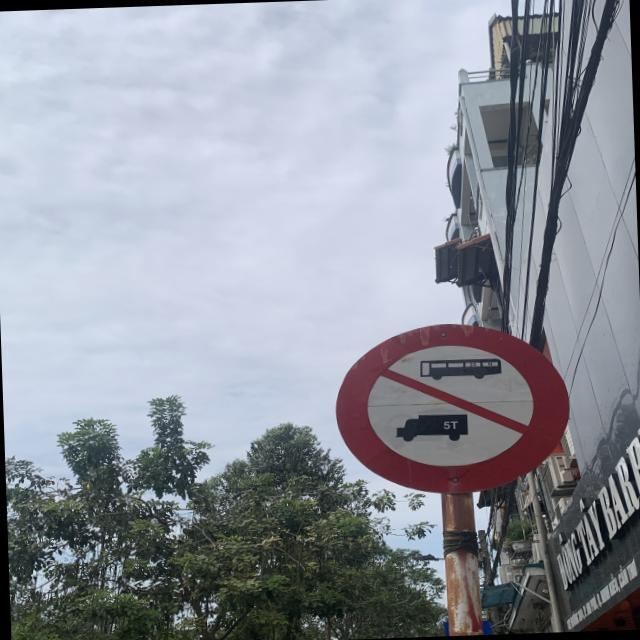Cam_XeTai_XeKhach: (333, 318, 573, 498)
